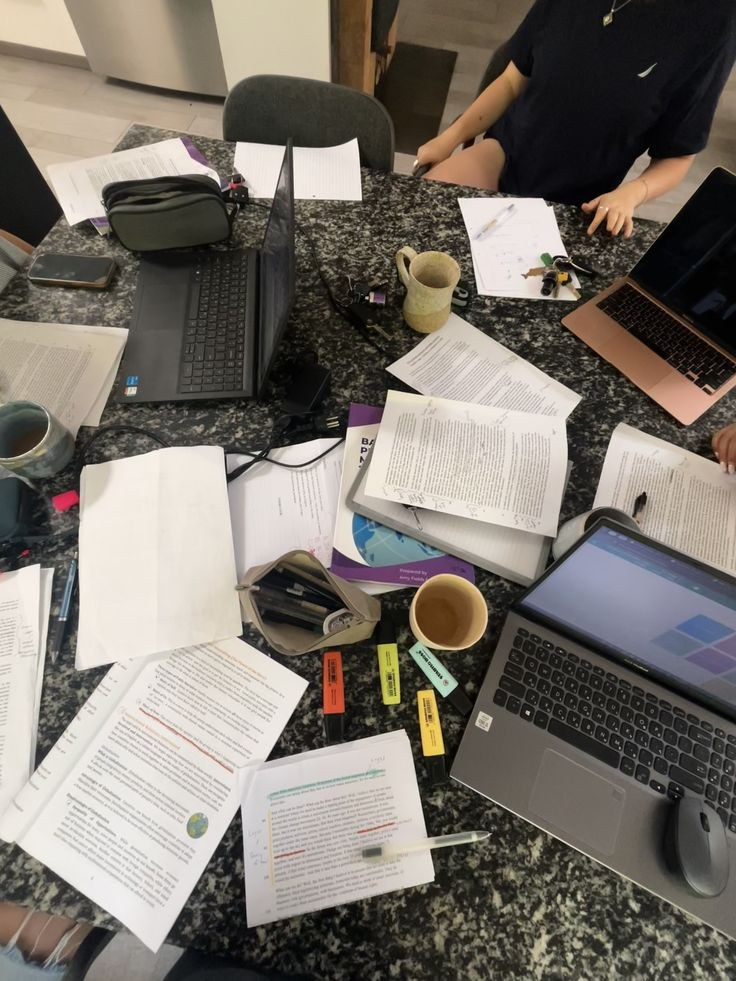cell phone: (27, 252, 117, 289)
laptop: (448, 510, 735, 943), (113, 136, 296, 405), (560, 165, 735, 427)
